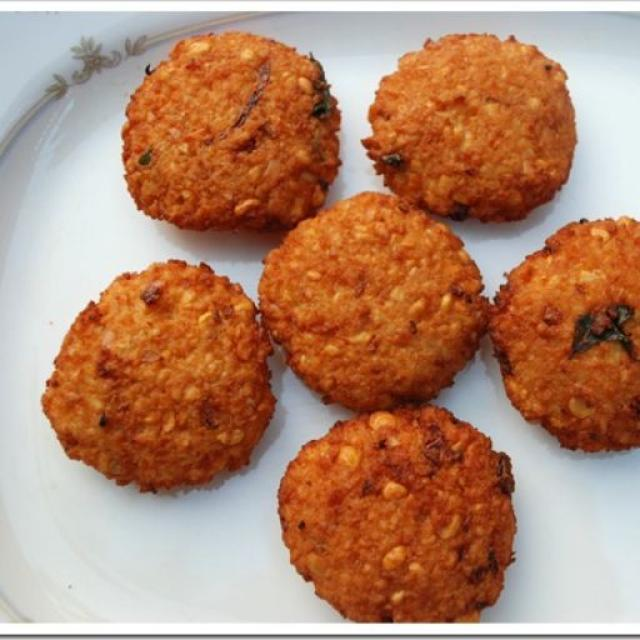dhal wade: (299, 212, 457, 372), (83, 322, 245, 462), (160, 67, 316, 205), (390, 67, 555, 194), (337, 435, 473, 589), (531, 256, 640, 424)
